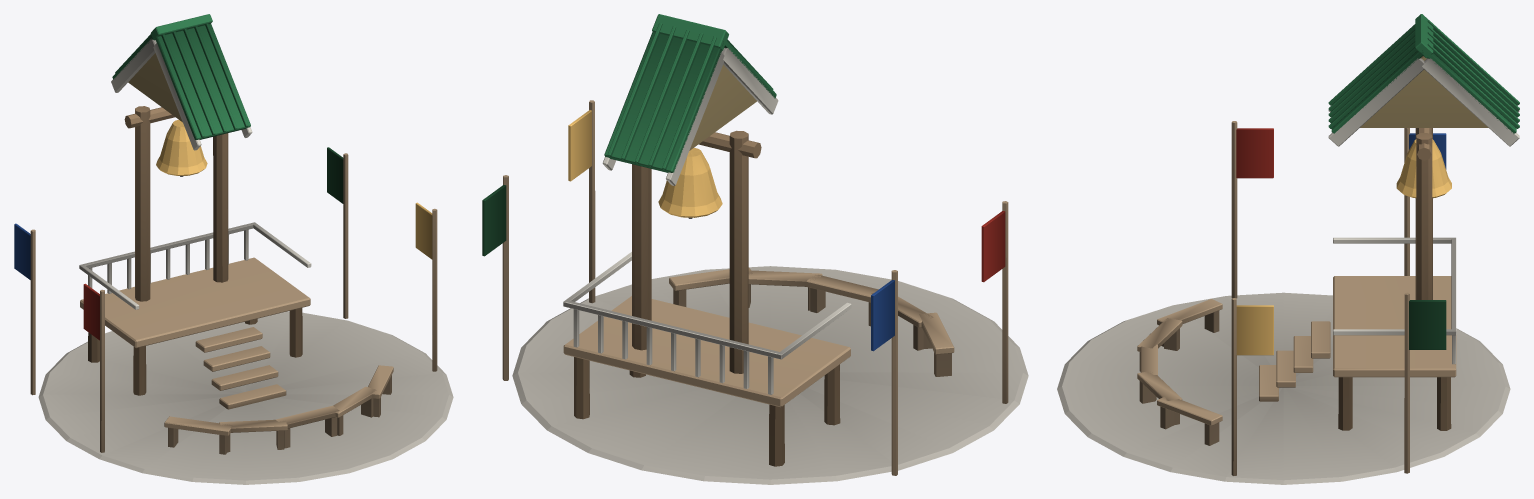
The model's file is bld_veche_e2.glb.
3 views of the same model, side by side, from view 1: azimuth 30°, elevation 25°; view 2: azimuth 150°, elevation 25°; view 3: azimuth 270°, elevation 25° (orthographic). The views are drawn at different scales.
Parts seen in each view (by area): view 1: veche; view 2: veche; view 3: veche.
Boxes of the visible parts, <box> form: veche: <box>14,14,453,484</box>; veche: <box>482,14,1028,484</box>; veche: <box>1057,14,1519,484</box>.
Size of the model in its own units: 1.84 by 1.62 by 1.88.
